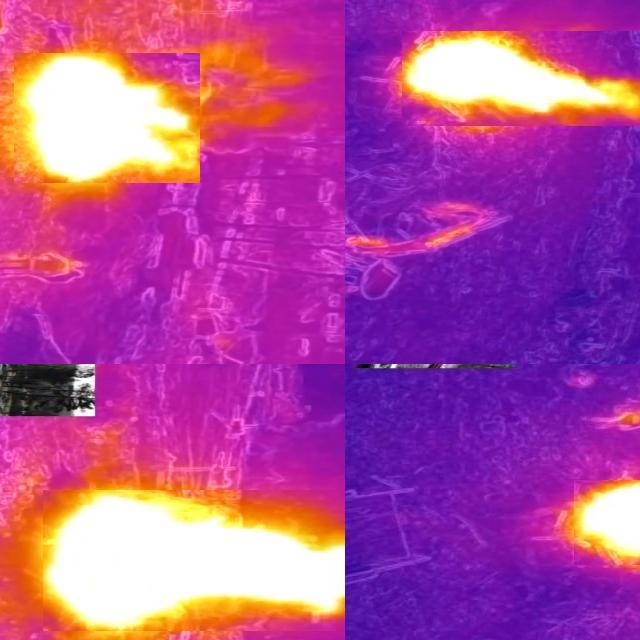fire: (42, 491, 346, 632), (14, 54, 200, 184), (402, 32, 640, 127), (574, 481, 640, 566)
